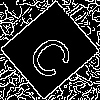C: (25, 25, 83, 84)
